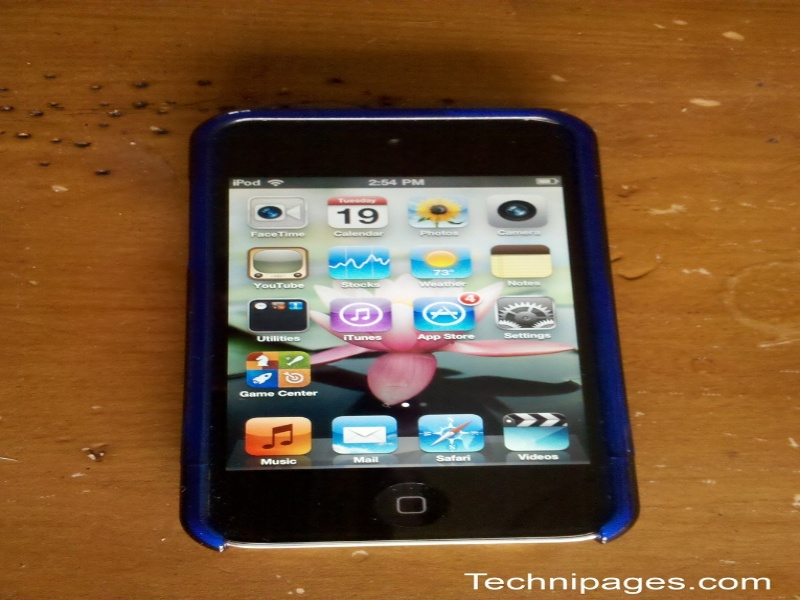cellphone: (175, 103, 639, 556)
